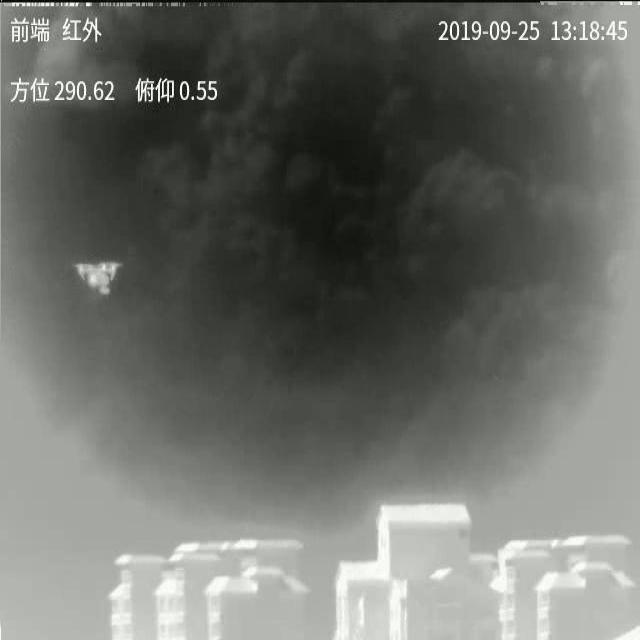drone: (73, 262, 123, 295)
